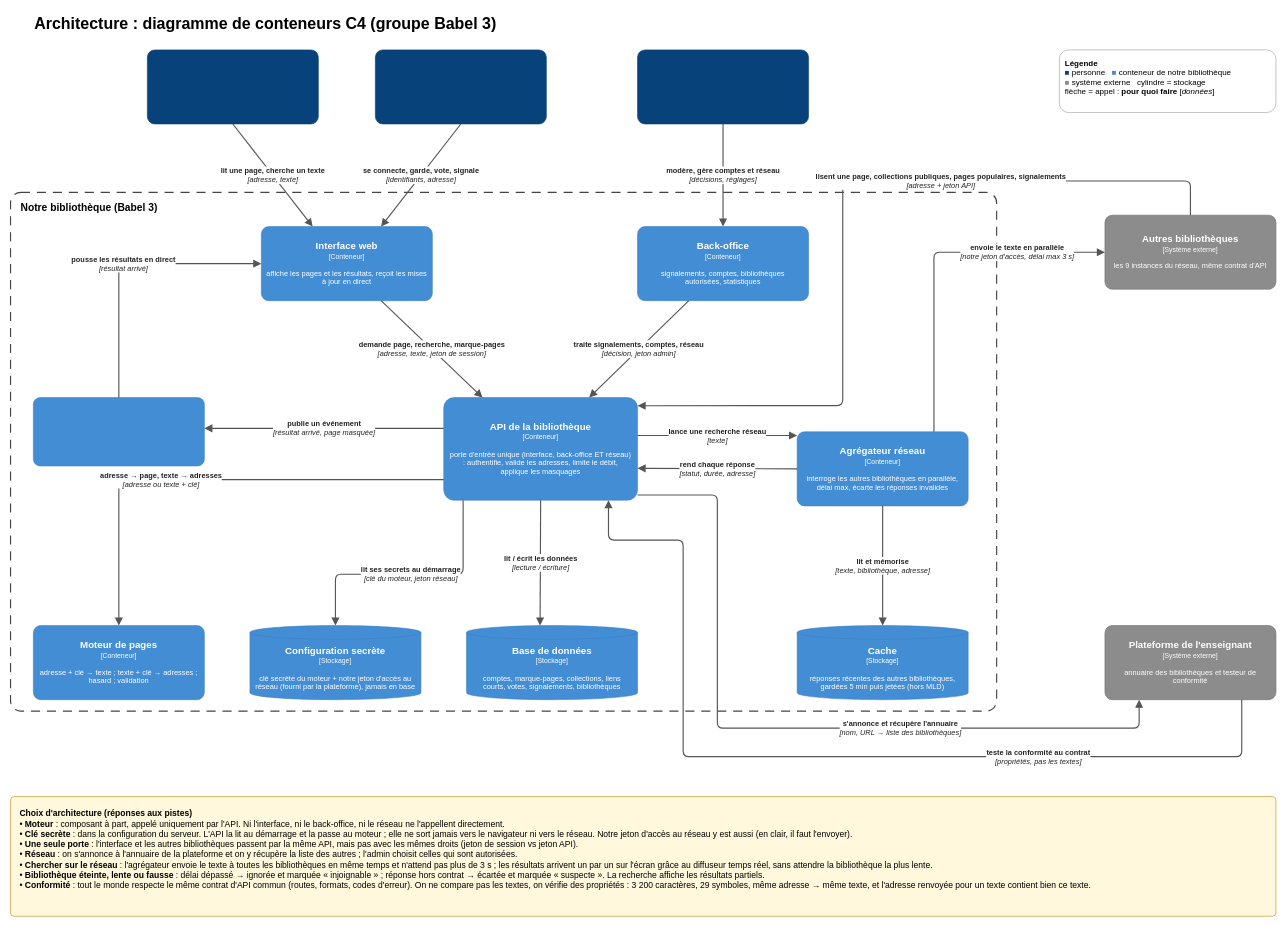
Image size: 1286x926. Some labels were removed from this diagram. The shapes that lost their labels are listed below. From the top down, each one's centre as x and y in pixels, then its label:
At point 232,86: "Visiteur [Personne] sans compte : lit, cherche, partage, signale".
At point 460,86: "Membre [Personne] avec compte : garde, collectionne, vote, commente".
At point 723,86: "Administrateur [Personne] modère, gère les comptes et le réseau".
At point 118,431: "Diffuseur temps réel [Conteneur] envoie les événements aux navigateurs connectés".
